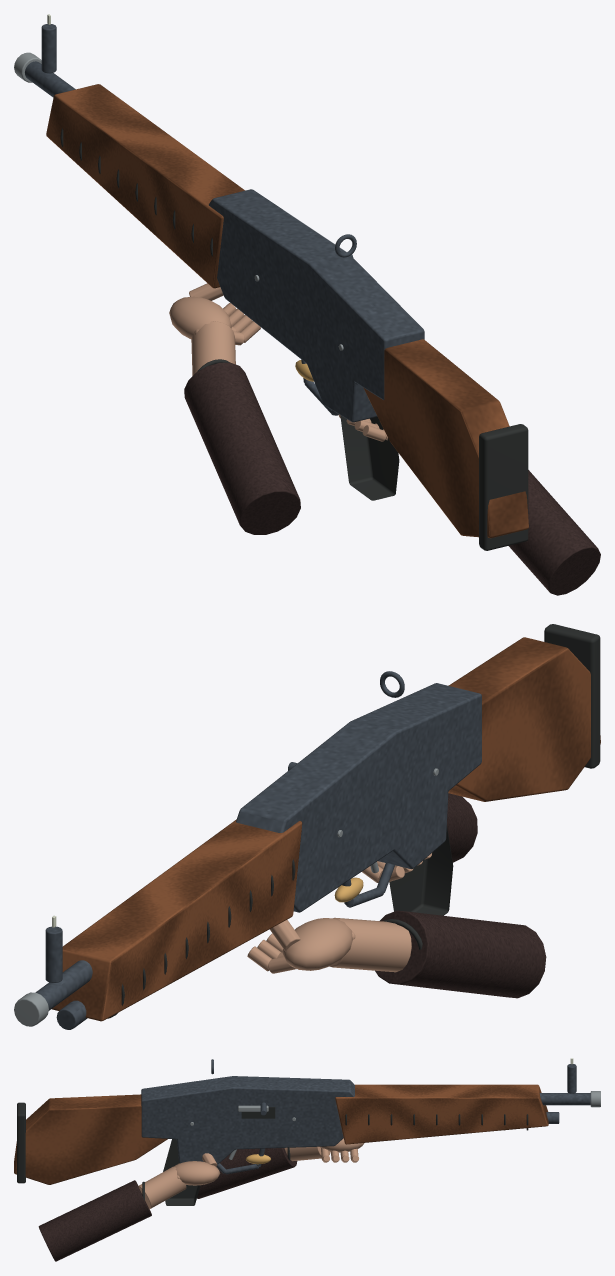
The picture shows the model from 3 angles, top to bottom: view 1: azimuth 30°, elevation 25°; view 2: azimuth 150°, elevation 25°; view 3: azimuth 270°, elevation 25°; orthographic projection. The views are drawn at different scales.
Visible parts, largest first — view 1: m870__BODY, m870__PUMP, m870__HAND_L, m870__HAND_R; view 2: m870__BODY, m870__PUMP, m870__HAND_L, m870__HAND_R; view 3: m870__BODY, m870__PUMP, m870__HAND_R, m870__HAND_L.
Boxes of the visible parts, x1=… form: m870__BODY: x1=14, y1=14, x2=528, y2=550; m870__PUMP: x1=46, y1=84, x2=244, y2=288; m870__HAND_L: x1=169, y1=283, x2=300, y2=534; m870__HAND_R: x1=338, y1=414, x2=600, y2=595; m870__BODY: x1=14, y1=624, x2=600, y2=1029; m870__PUMP: x1=52, y1=819, x2=302, y2=1021; m870__HAND_L: x1=247, y1=910, x2=546, y2=998; m870__HAND_R: x1=362, y1=793, x2=477, y2=882; m870__BODY: x1=14, y1=1058, x2=600, y2=1205; m870__PUMP: x1=335, y1=1084, x2=548, y2=1144; m870__HAND_R: x1=38, y1=1153, x2=220, y2=1261; m870__HAND_L: x1=197, y1=1138, x2=364, y2=1198.
Size of the model in its own units: 0.3294 by 0.3781 by 1.15.
Materials: 8 (3 with a texture image).
